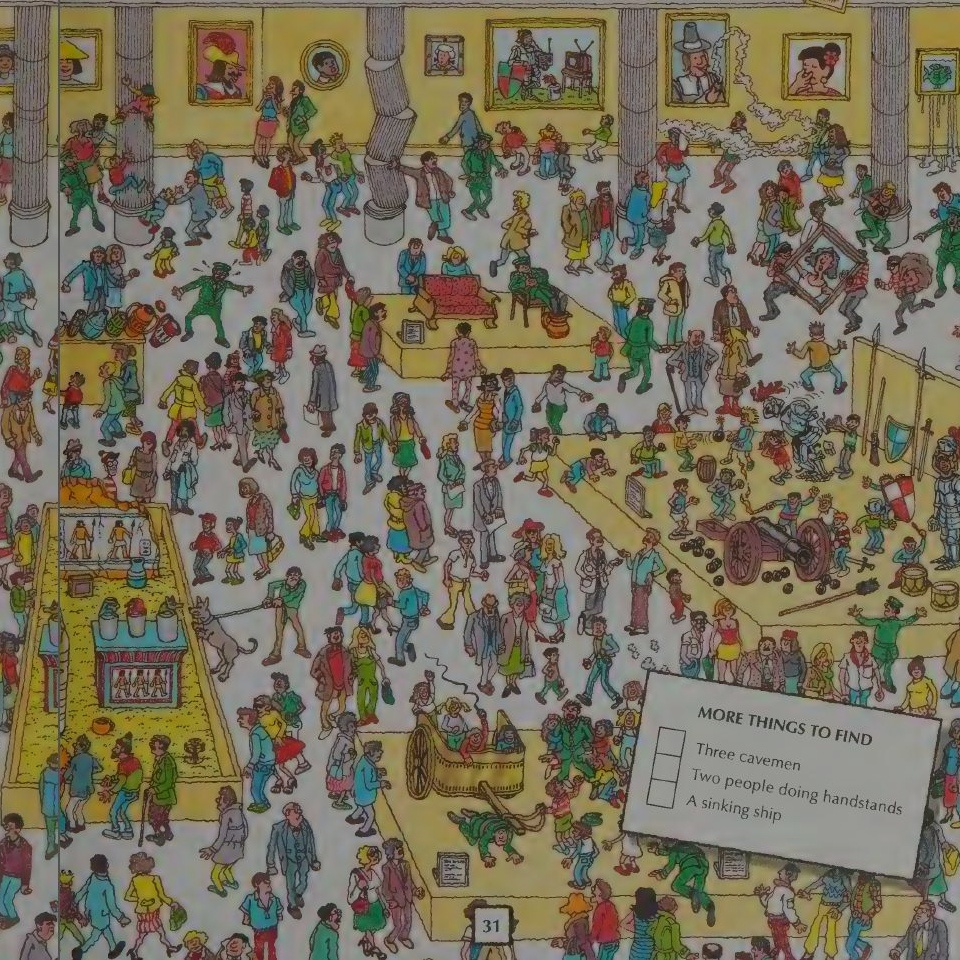waldo: (99, 451, 121, 493)
